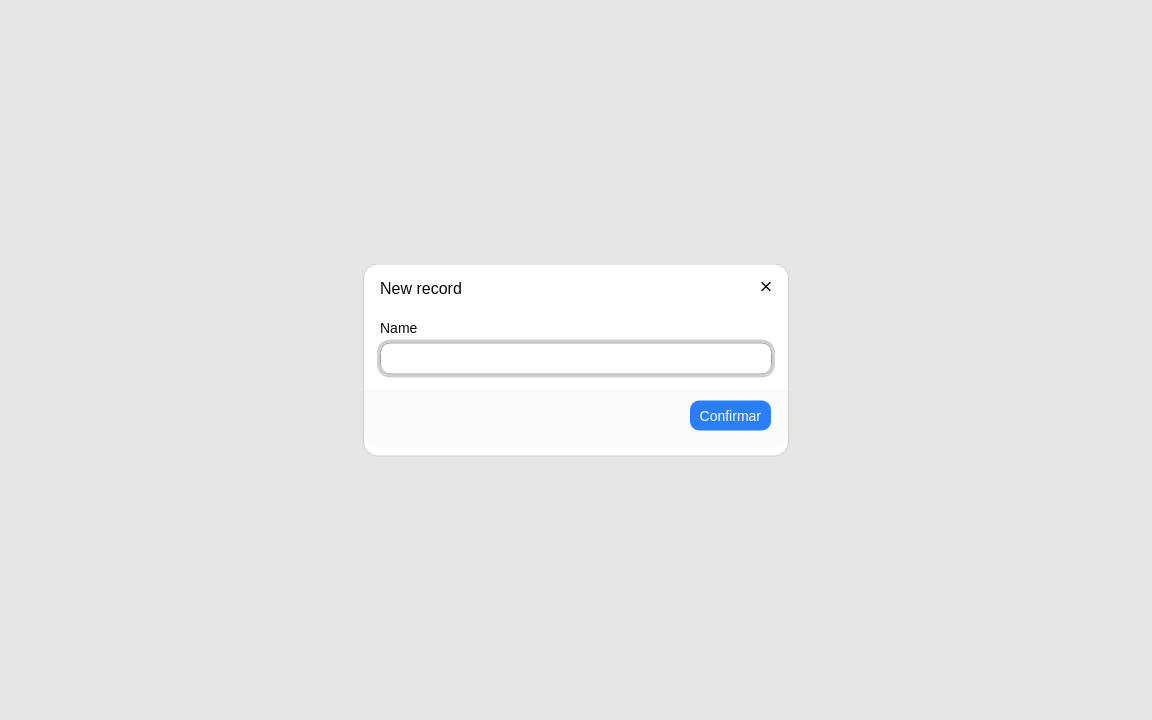
Scenario: FormModal › schema validation › shows the schema error and does not call onSubmit
This screenshot has width=1152, height=720.
Type "ab" into the field labelled "Name" at {"x": 576, "y": 358}, box [380,342,772,374]
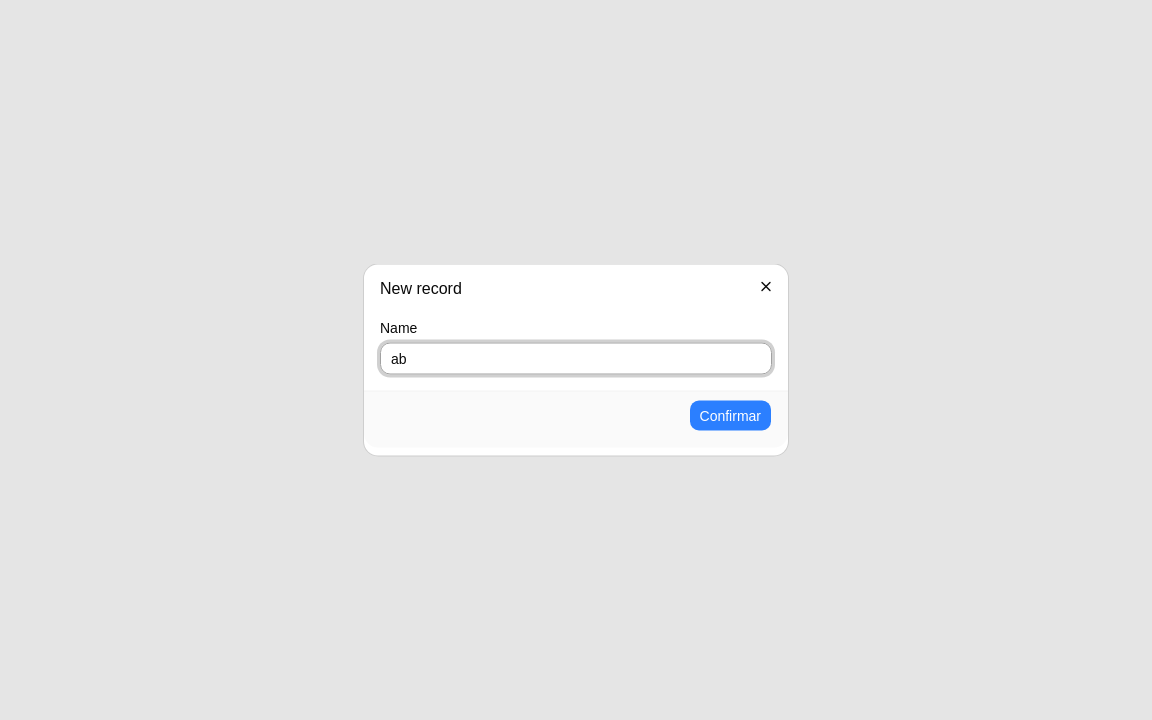
Click the button "Confirmar" at {"x": 730, "y": 416}, box [688,400,772,432]
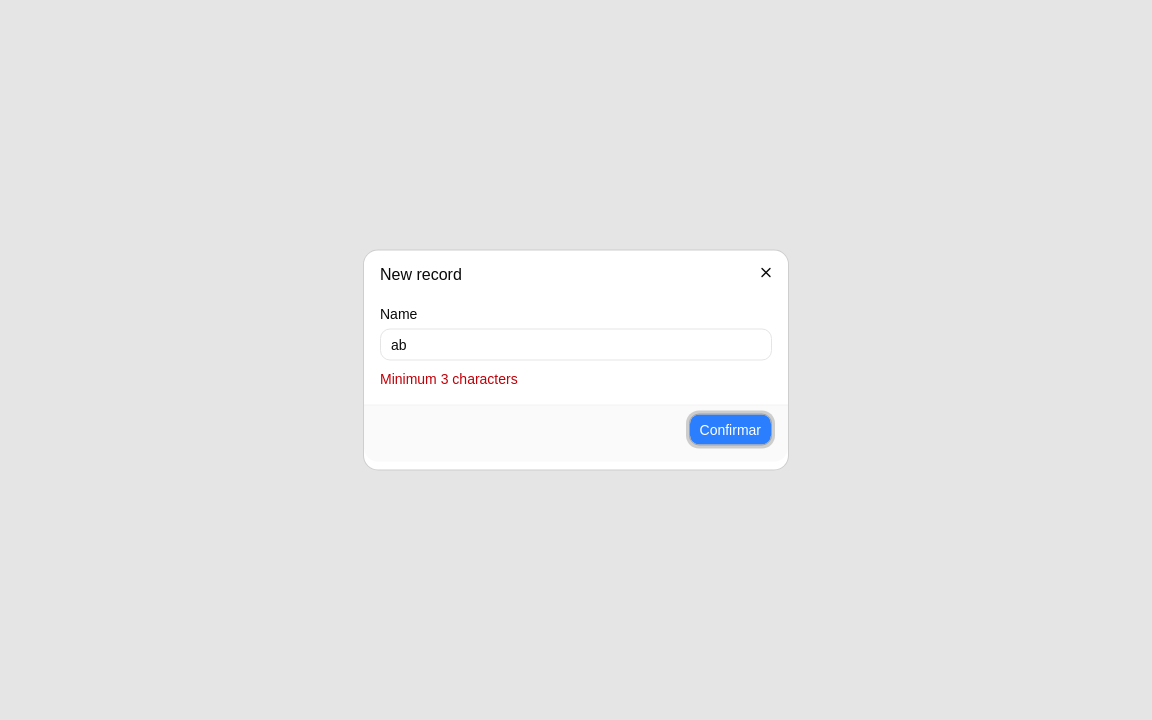
Result: the text "Minimum 3 characters" is shown at [380,370,518,386]
